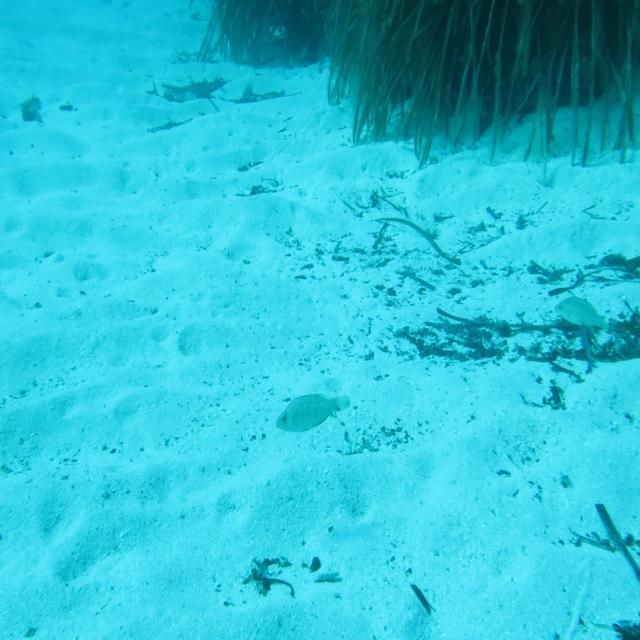BN: (276, 389, 351, 440)
female: (555, 293, 606, 331)
